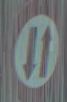Two way: (14, 12, 61, 85)
